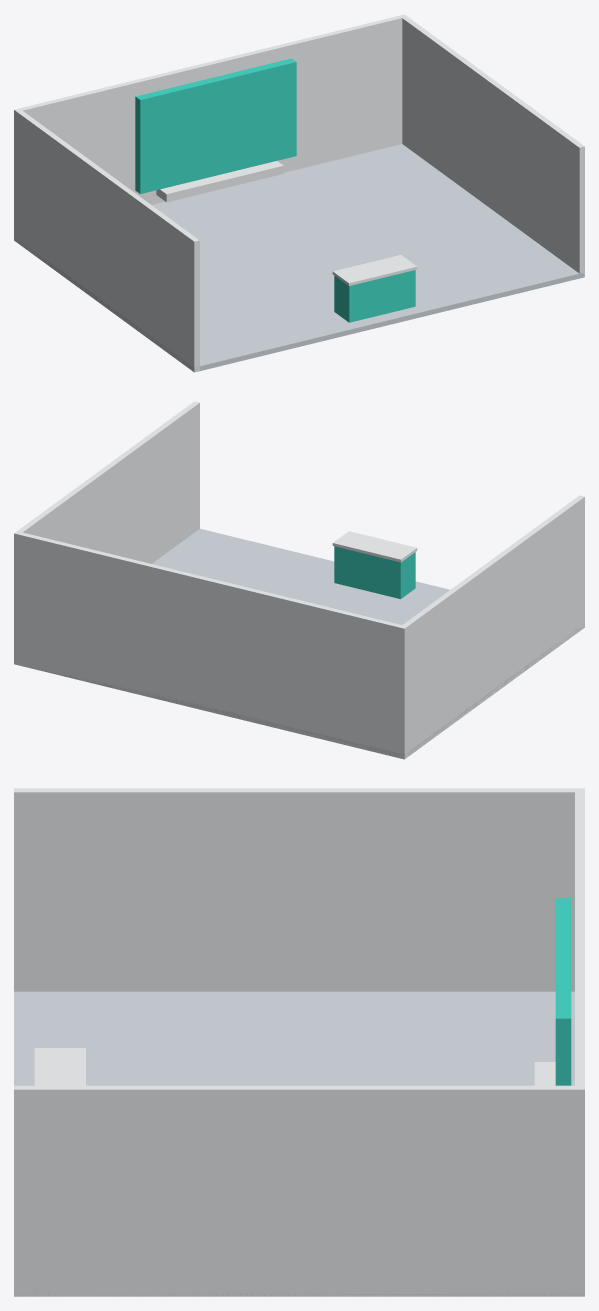
3 renders of one model, top to bottom at view 1: azimuth 30°, elevation 25°; view 2: azimuth 150°, elevation 25°; view 3: azimuth 270°, elevation 25°, orthographic. The views are drawn at different scales.
Parts seen in each view (by area): view 1: Exhibition Booth Concept; view 2: Exhibition Booth Concept; view 3: Exhibition Booth Concept.
Part boxes in pixels (x1,y1,x2,y2): Exhibition Booth Concept: [14, 14, 584, 372]; Exhibition Booth Concept: [14, 401, 584, 759]; Exhibition Booth Concept: [14, 788, 584, 1296].
Bounding box in the file's own units: 10 × 3.2 × 8.
